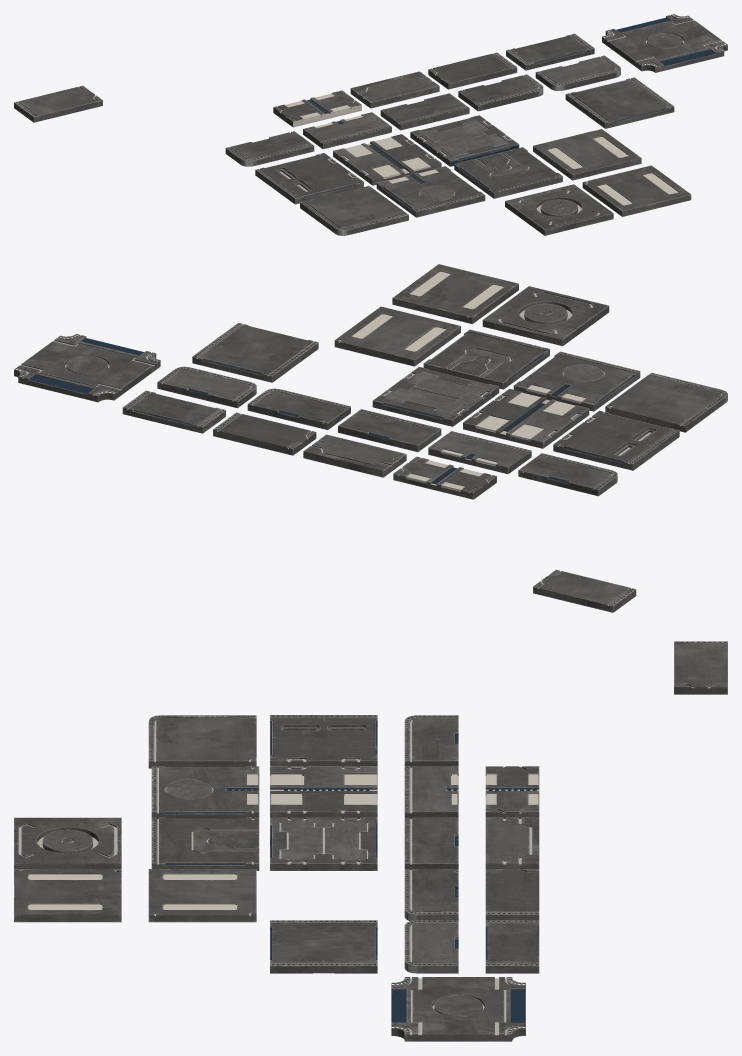
File: modular_sci-fi_floor.glb
3 renders of one model, top to bottom at view 1: azimuth 30°, elevation 25°; view 2: azimuth 150°, elevation 25°; view 3: azimuth 270°, elevation 25°, orthographic. The views are drawn at different scales.
Parts seen in each view (by area): view 1: Cube.009, Cube.021, Cube.019, Cube.020, Cube.016, Cube.012, Cube.018, Cube.000, Cube.015, Cube.014, Cube.013, Cube.007 (+9 smaller); view 2: Cube.009, Cube.020, Cube.019, Cube.021, Cube.014, Cube.013, Cube.015, Cube.012, Cube.016, Cube.018, Cube.000, Cube.004 (+9 smaller); view 3: Cube.009, Cube.019, Cube.012, Cube.021, Cube.013, Cube.016, Cube.000, Cube.015, Cube.014, Cube.020, Cube.018, Cube.008 (+9 smaller).
Boxes of the visible parts, box(x1,y1,x2,y2) form: Cube.009: box(602, 14, 727, 72); Cube.021: box(582, 165, 691, 216); Cube.019: box(533, 129, 641, 180); Cube.020: box(505, 184, 613, 235); Cube.016: box(300, 186, 408, 235); Cube.012: box(565, 77, 674, 128); Cube.018: box(454, 147, 562, 198); Cube.000: box(376, 166, 485, 217); Cube.015: box(255, 153, 363, 204); Cube.014: box(333, 134, 441, 185); Cube.013: box(410, 115, 519, 166); Cube.007: box(428, 52, 517, 89); Cube.009: box(14, 334, 160, 402); Cube.020: box(482, 286, 609, 346); Cube.019: box(334, 306, 460, 366); Cube.021: box(392, 264, 518, 323); Cube.014: box(463, 388, 589, 448); Cube.013: box(372, 366, 499, 426); Cube.015: box(553, 410, 679, 470); Cube.012: box(192, 322, 318, 382); Cube.016: box(605, 372, 727, 432); Cube.018: box(423, 329, 549, 389); Cube.000: box(513, 351, 640, 411); Cube.004: box(428, 431, 531, 474); Cube.009: box(391, 977, 525, 1041); Cube.019: box(148, 869, 256, 922); Cube.012: box(270, 920, 377, 973); Cube.021: box(14, 869, 121, 922); Cube.013: box(270, 817, 377, 870); Cube.016: box(148, 715, 256, 768); Cube.000: box(151, 766, 259, 818); Cube.015: box(270, 715, 377, 767); Cube.014: box(270, 766, 377, 818); Cube.020: box(14, 817, 121, 870); Cube.018: box(151, 817, 259, 870); Cube.008: box(485, 920, 539, 973).
Size of the model in its own units: 6900 by 65.43 by 5300.
1 material, 1 textured.
